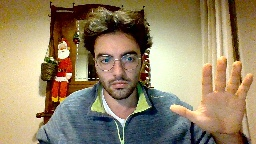Mano_aperta: (168, 53, 254, 134)
